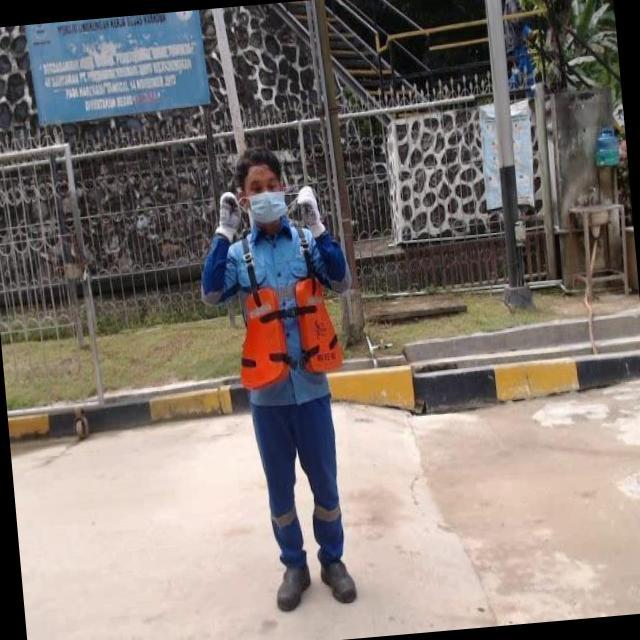Human: (183, 126, 408, 630)
Safety Boot: (314, 537, 361, 606), (270, 547, 315, 612)
Safety Vest: (229, 230, 344, 401)
